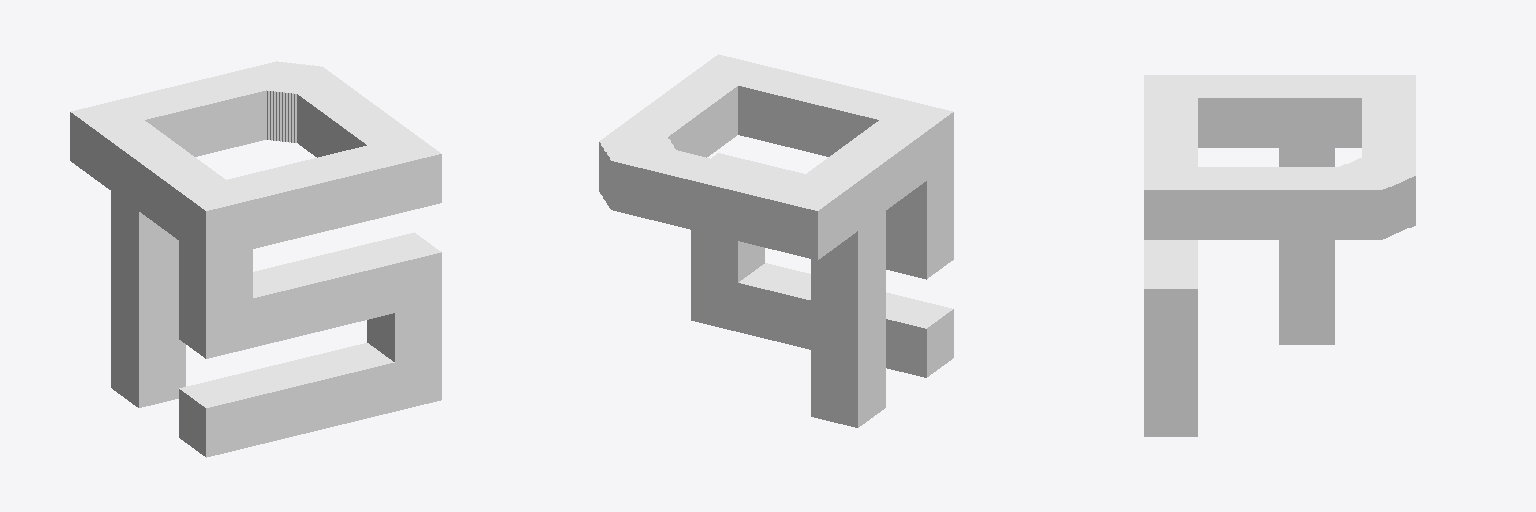
File: DTS.obj
The picture shows the model from 3 angles: view 1: azimuth 30°, elevation 25°; view 2: azimuth 150°, elevation 25°; view 3: azimuth 270°, elevation 25°; orthographic projection.
Parts seen in each view (by area): view 1: DTS; view 2: DTS; view 3: DTS.
Part boxes in pixels (bbox=[...]): DTS: bbox=[70, 61, 441, 457]; DTS: bbox=[599, 54, 953, 427]; DTS: bbox=[1144, 75, 1415, 436].
Bounding box in the file's own units: 125 × 125 × 125.